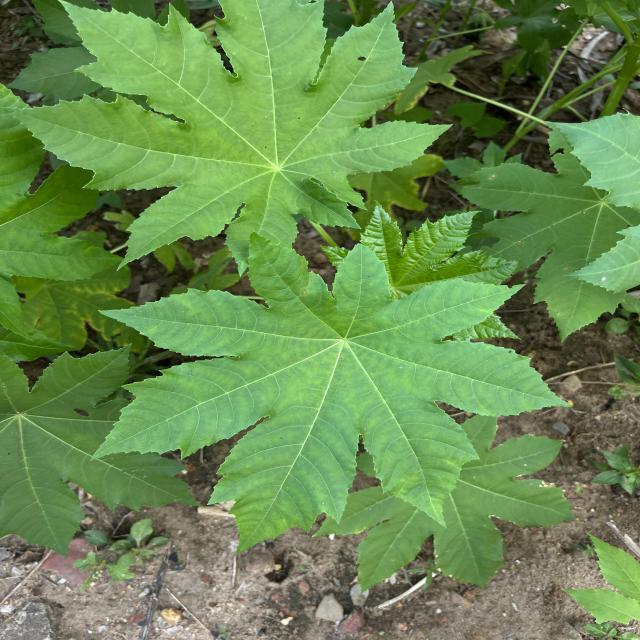Ricinus communis linn: (85, 226, 577, 560), (0, 0, 457, 273)
